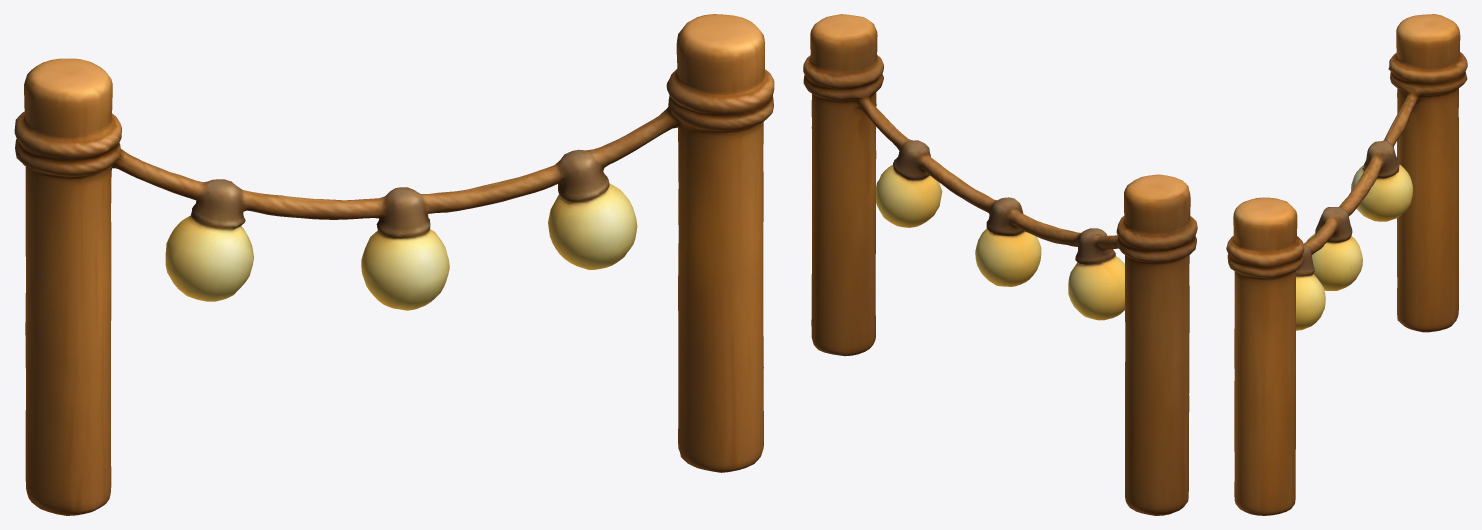
Rendered from street-light-garland.glb.
The picture shows the model from 3 angles, left to right: view 1: azimuth 30°, elevation 25°; view 2: azimuth 150°, elevation 25°; view 3: azimuth 270°, elevation 25°; orthographic projection. The views are drawn at different scales.
Parts seen in each view (by area): view 1: tripo_node_6dadb79f-6f41-4c5e-94f3-b3273fd5c5a7; view 2: tripo_node_6dadb79f-6f41-4c5e-94f3-b3273fd5c5a7; view 3: tripo_node_6dadb79f-6f41-4c5e-94f3-b3273fd5c5a7.
Part boxes in pixels (x1,y1,x2,y2): tripo_node_6dadb79f-6f41-4c5e-94f3-b3273fd5c5a7: (14,14,774,515); tripo_node_6dadb79f-6f41-4c5e-94f3-b3273fd5c5a7: (803,14,1197,515); tripo_node_6dadb79f-6f41-4c5e-94f3-b3273fd5c5a7: (1226,14,1467,515).
Size of the model in its own units: 0.9964 by 0.6534 by 0.4734.
1 material, 1 textured.
